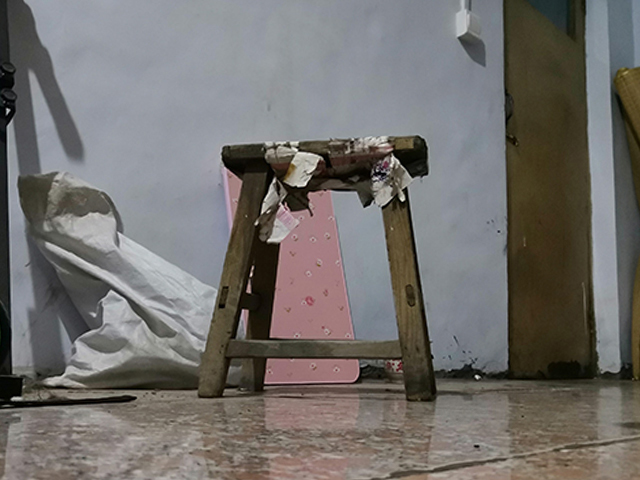stool: (195, 133, 439, 402)
